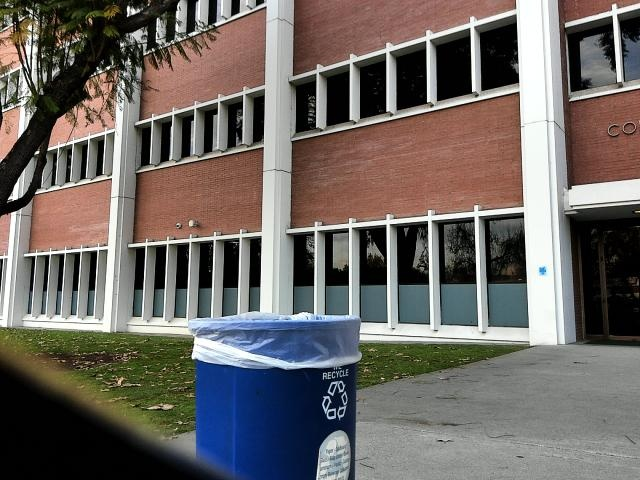trashcan_open: (182, 303, 374, 480)
